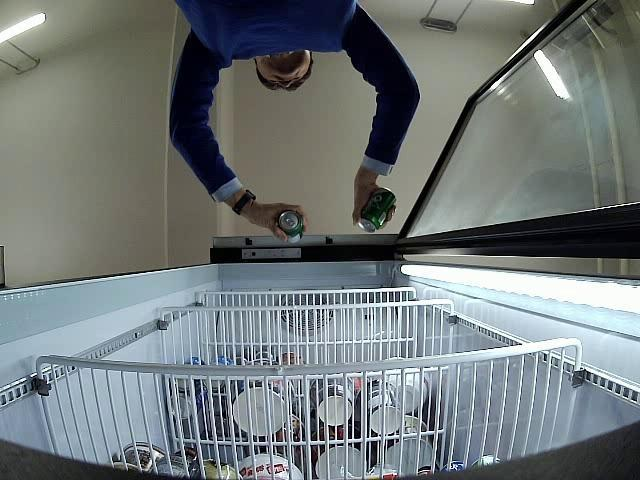12_chilsungCider: (359, 187, 394, 232), (278, 211, 303, 241)
